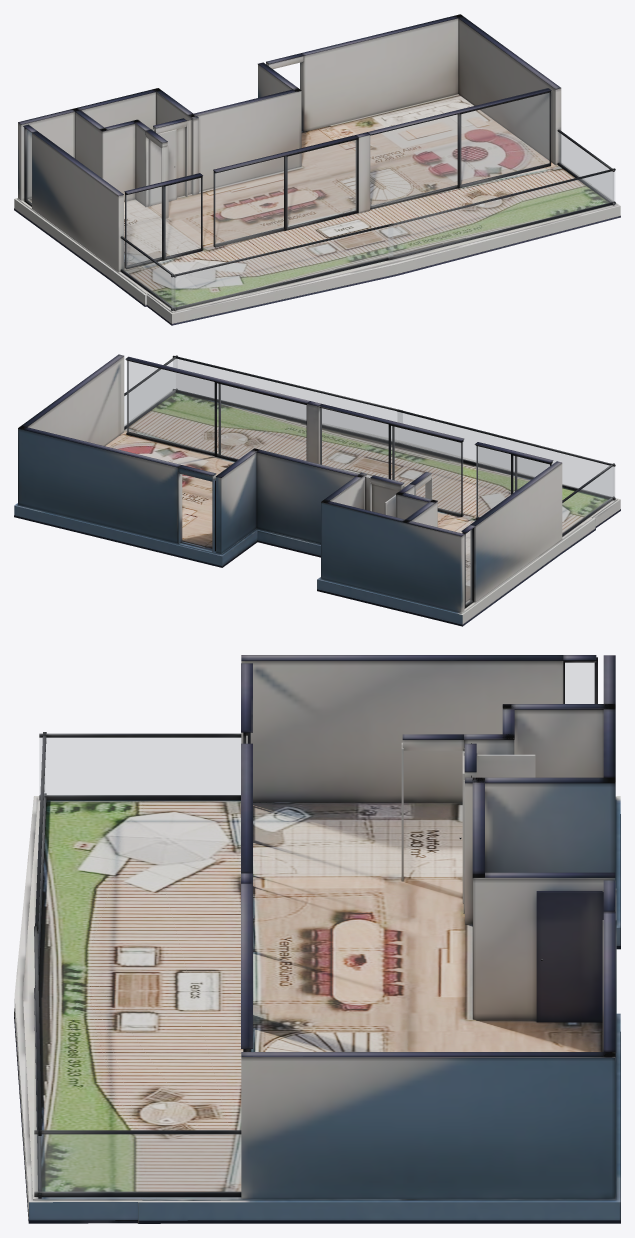
The picture shows the model from 3 angles, top to bottom: view 1: azimuth 30°, elevation 25°; view 2: azimuth 150°, elevation 25°; view 3: azimuth 270°, elevation 25°; orthographic projection. The views are drawn at different scales.
Visible parts, largest first — view 1: plan, glass3_m, glass2_m, railg2_m, railg3_m, glass1_m, railg1_m, railg0_m; view 2: plan, glass3_m, glass2_m, railg2_m, railg3_m, glass1_m, railg1_m, railg0_m, glass0_m; view 3: plan, railg0_m, railg1_m, glass0_m.
Part boxes in pixels (x1,y1,x2,y2): plan: (14, 14, 620, 325); glass3_m: (370, 93, 549, 206); glass2_m: (214, 140, 356, 244); railg2_m: (388, 171, 614, 257); railg3_m: (171, 226, 392, 308); glass1_m: (126, 178, 200, 266); railg1_m: (121, 239, 175, 308); railg0_m: (558, 132, 613, 202); plan: (14, 354, 620, 626); glass3_m: (127, 361, 306, 460); glass2_m: (320, 408, 460, 513); railg2_m: (173, 359, 402, 441); railg3_m: (397, 412, 614, 497); glass1_m: (476, 446, 549, 517); railg1_m: (562, 467, 613, 533); railg0_m: (124, 359, 176, 426); glass0_m: (466, 530, 471, 604); plan: (14, 655, 620, 1223); railg0_m: (34, 1134, 240, 1192); railg1_m: (39, 738, 240, 795); glass0_m: (565, 663, 594, 703).
Size of the model in its own units: 13.95 by 2.62 by 8.78.
Materials: 2 (1 with a texture image).
